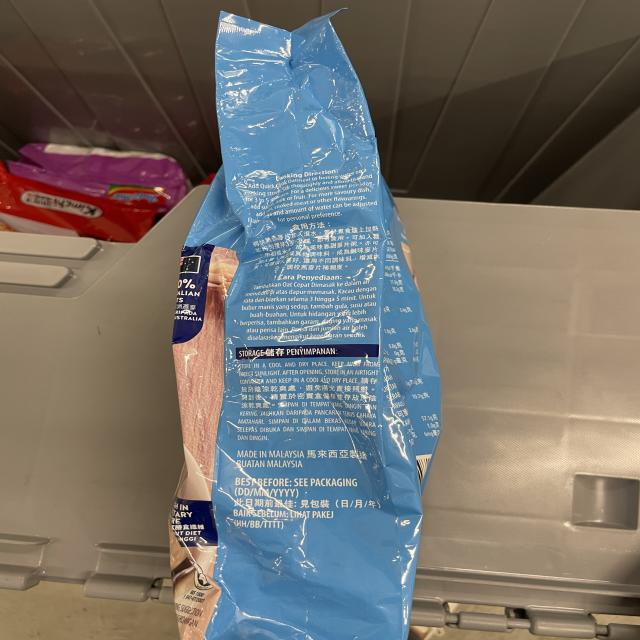object_name: (199, 28, 410, 640)
